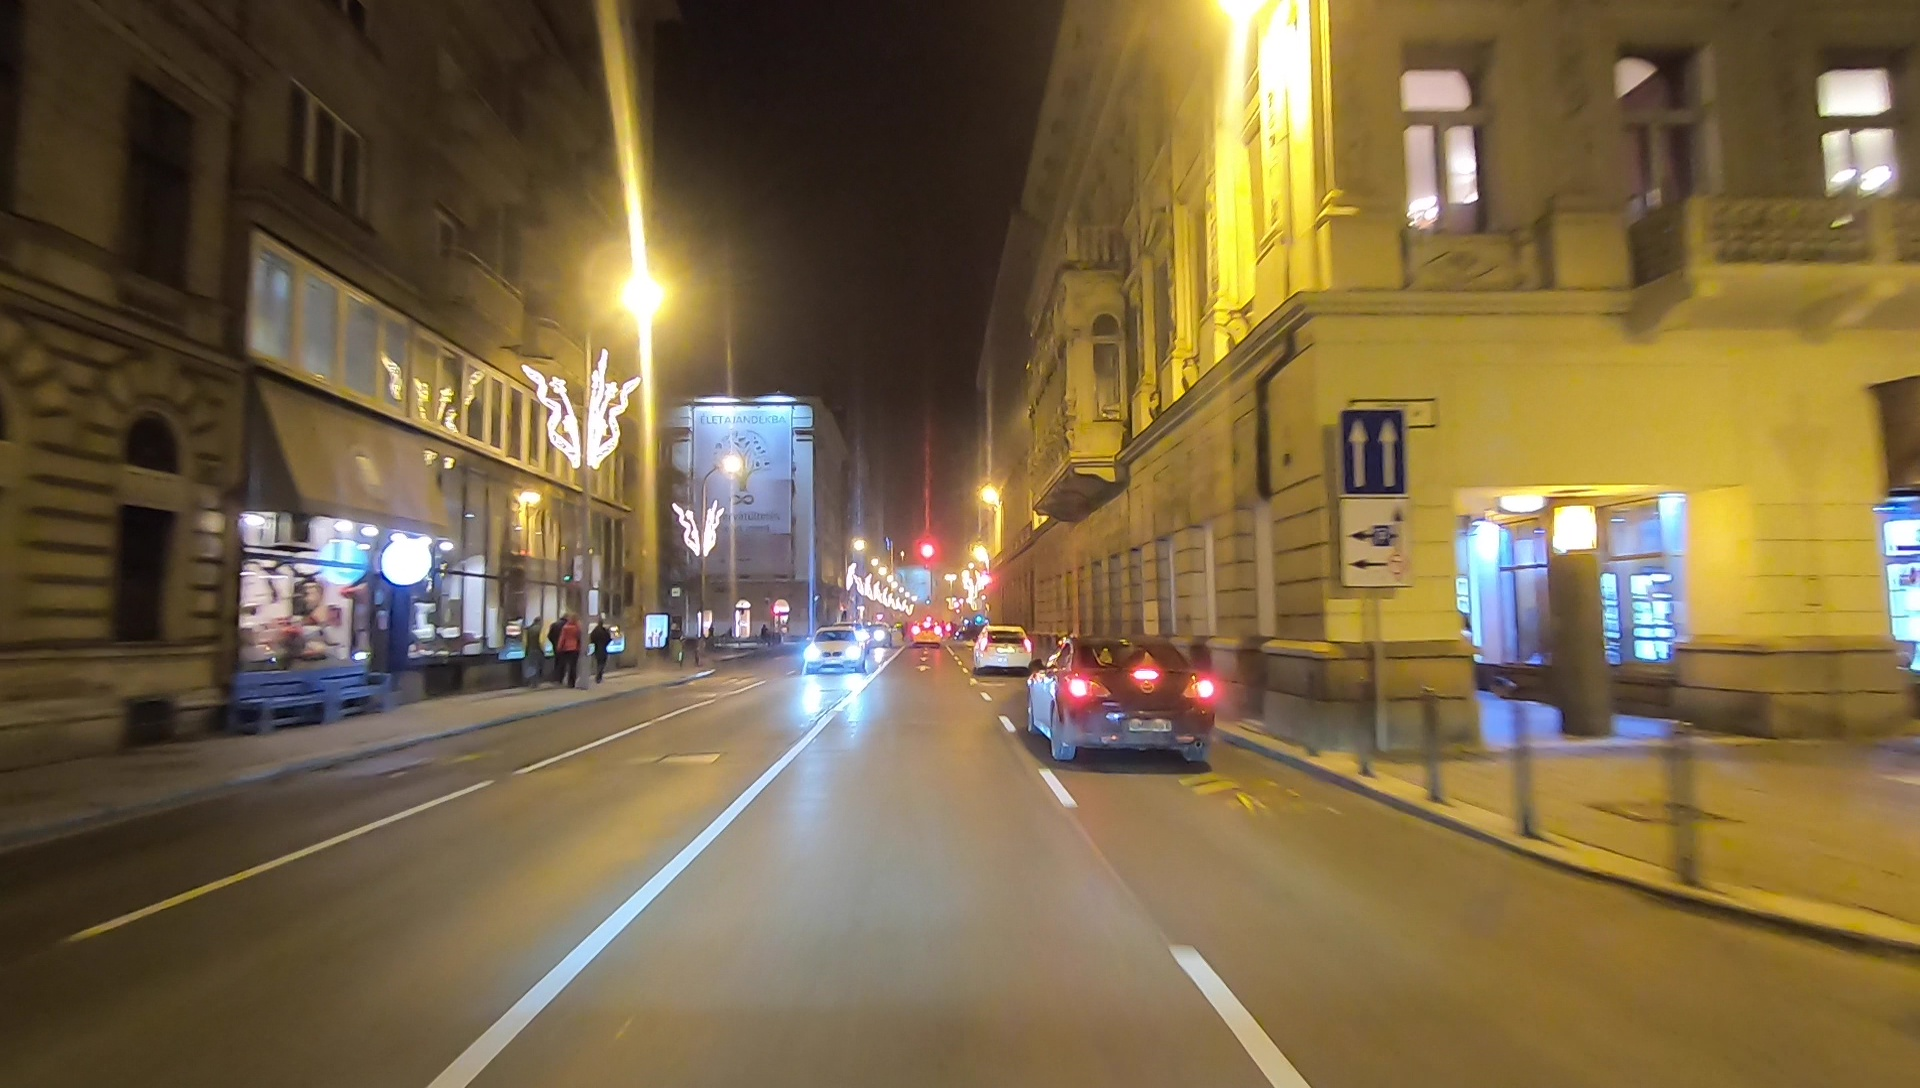person: (519, 611, 545, 684), (589, 617, 612, 689), (562, 610, 582, 686)
